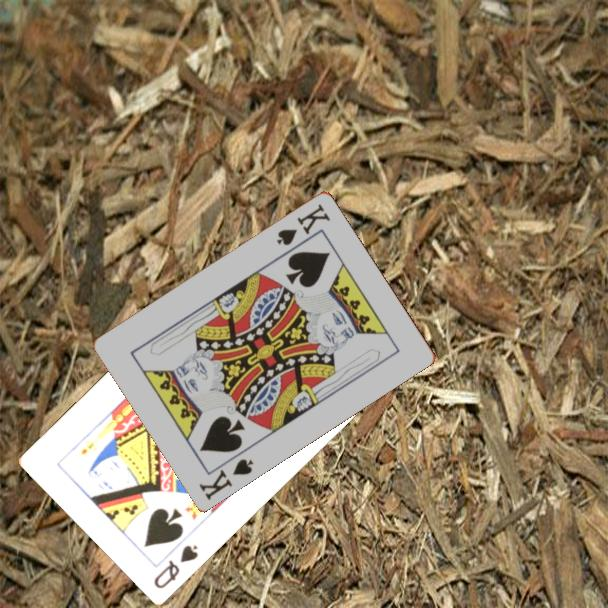s12: (150, 540, 201, 591)
s13: (195, 454, 257, 503), (273, 200, 334, 248)
